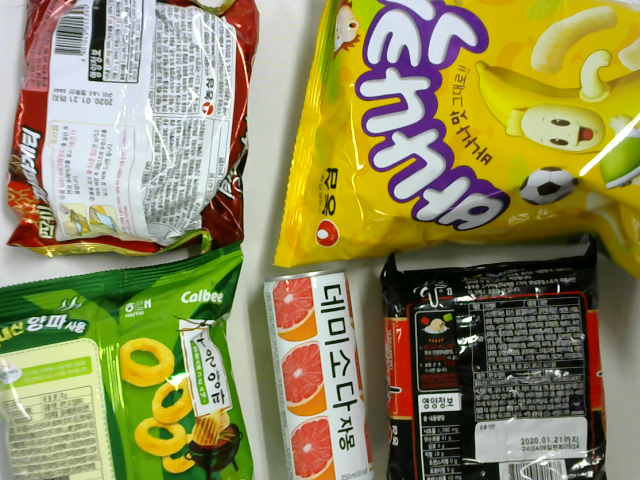Banana_Kick: (271, 4, 640, 264)
Demisoda_Grapefruit_Can_250ml: (261, 268, 371, 480)
Grilled_Onions: (1, 252, 257, 480)
Sichuan_Chapaghetti: (3, 4, 255, 256)
Sinramen_Black: (371, 244, 620, 480)
